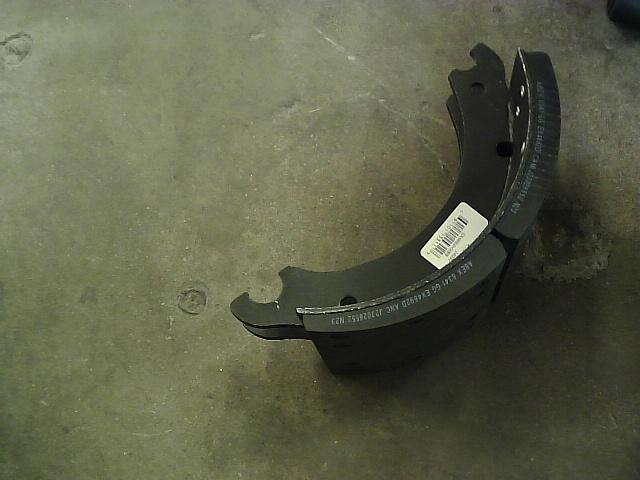brake-shoes: (228, 40, 563, 376)
